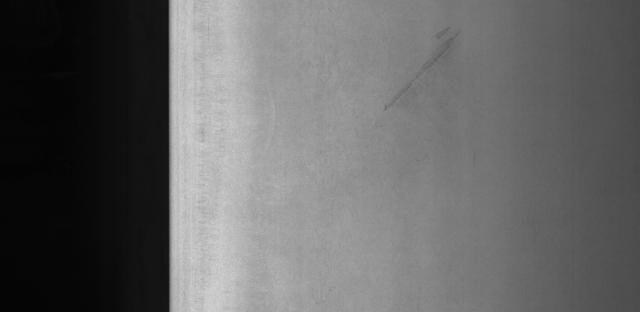water_spot: (379, 16, 474, 126)
